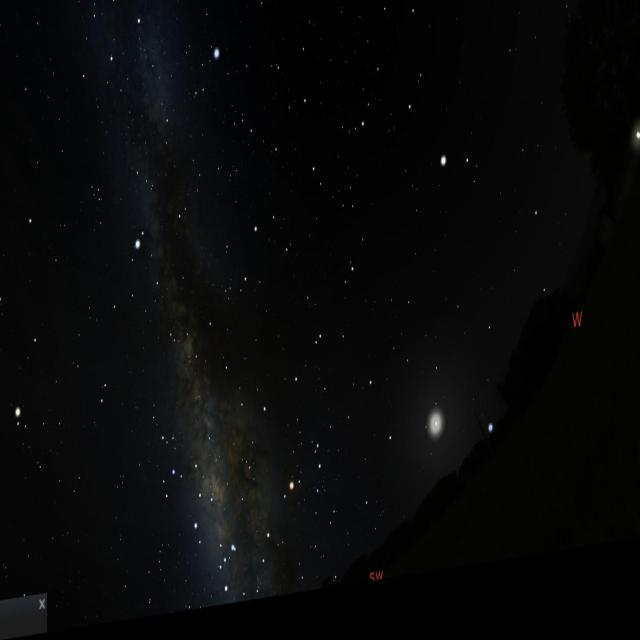aquila: (108, 202, 203, 380)
bootes: (369, 0, 483, 232)
cygnus: (104, 0, 187, 156)
lyra: (188, 48, 225, 112)
moon: (414, 398, 458, 491)
sagittarius: (154, 415, 217, 533)
scorpius: (215, 437, 347, 595)
